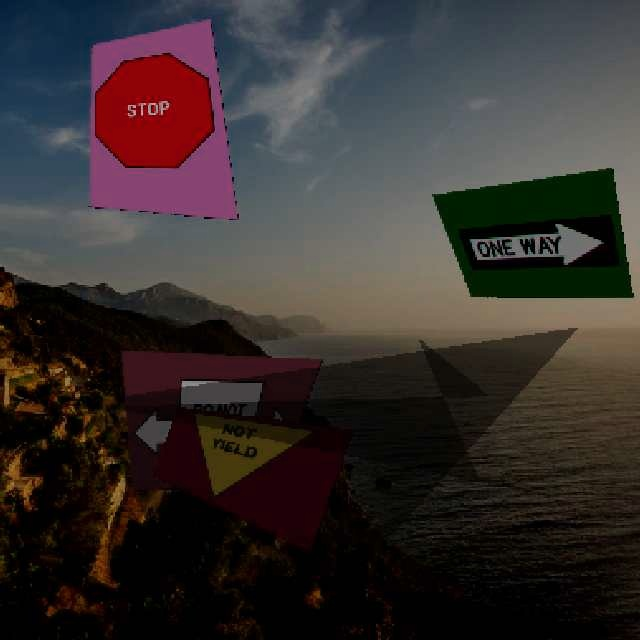DO_NOT_GO_AROUND: (128, 366, 309, 474)
NOT_YIELD: (161, 405, 316, 529)
ONE_WAY_ right: (456, 214, 618, 278)
STOP: (87, 44, 218, 190)
